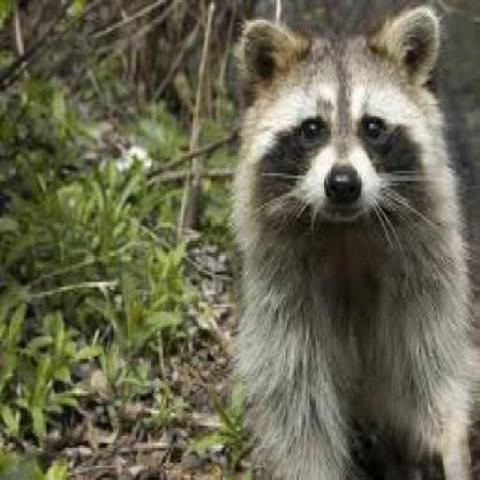small_animal: (223, 5, 476, 478)
